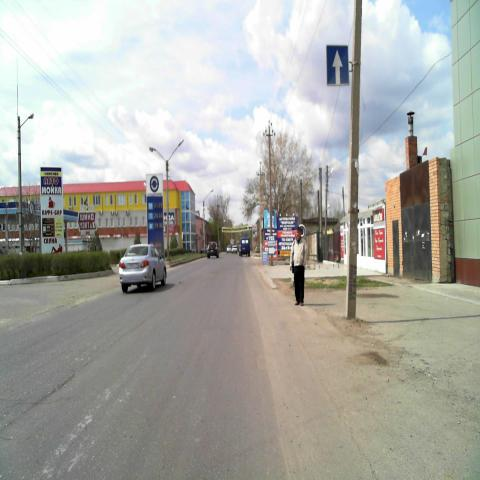5_5: (327, 43, 350, 86)
